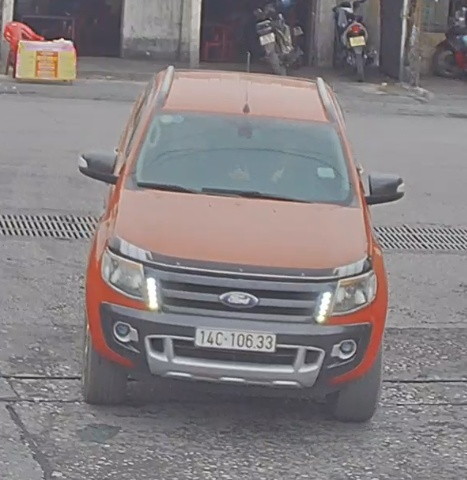vehicle plate: (190, 321, 277, 355)
